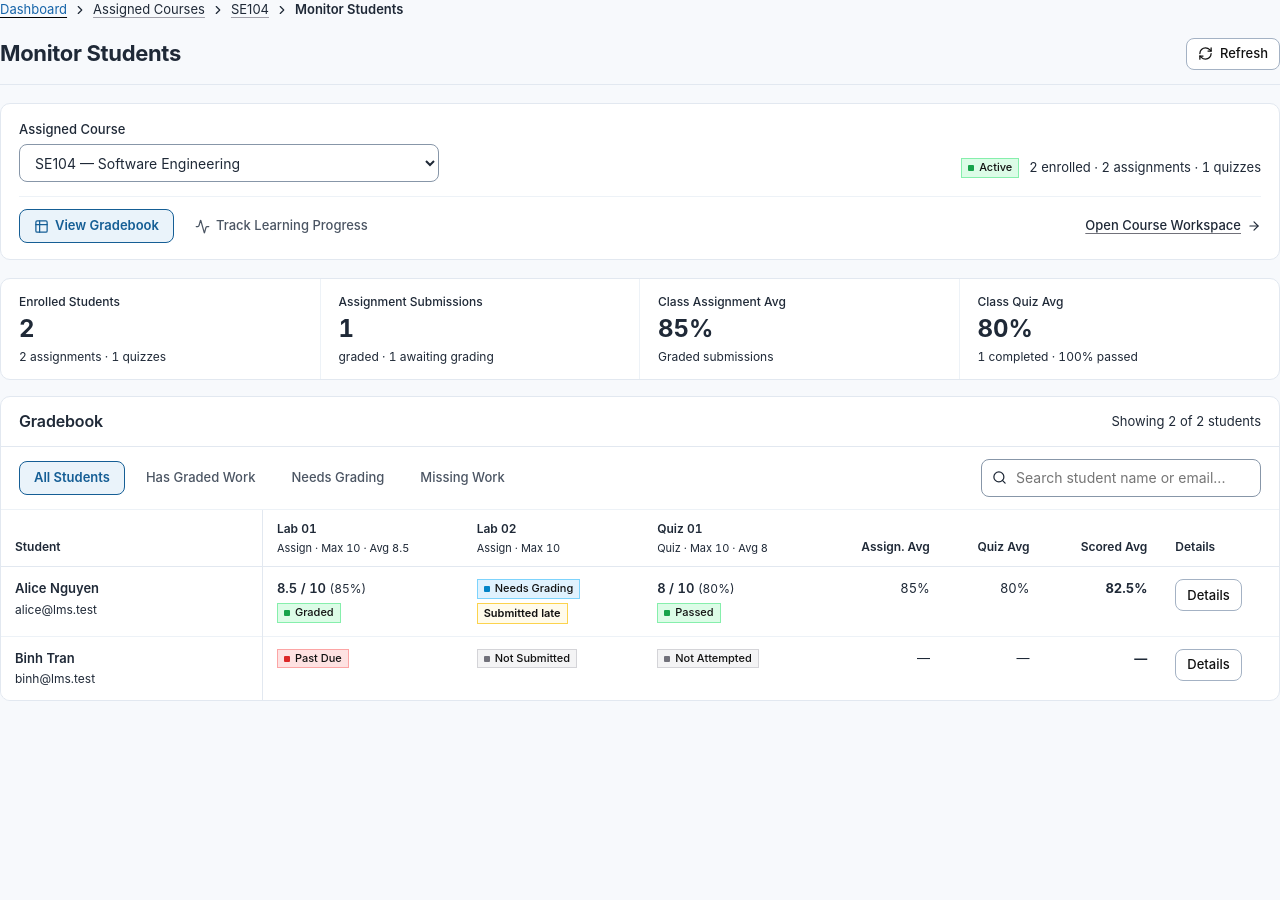
Scenario: I06: Instructor Monitor Students › 5.2 switches to Track Learning Progress, filters by status, and opens read-only detail modal
Expected: the table named "Course gradebook" is shown, [1,510,1279,700]
Click the tab "Track Learning Progress" at [281, 226], box [180,209,383,243]
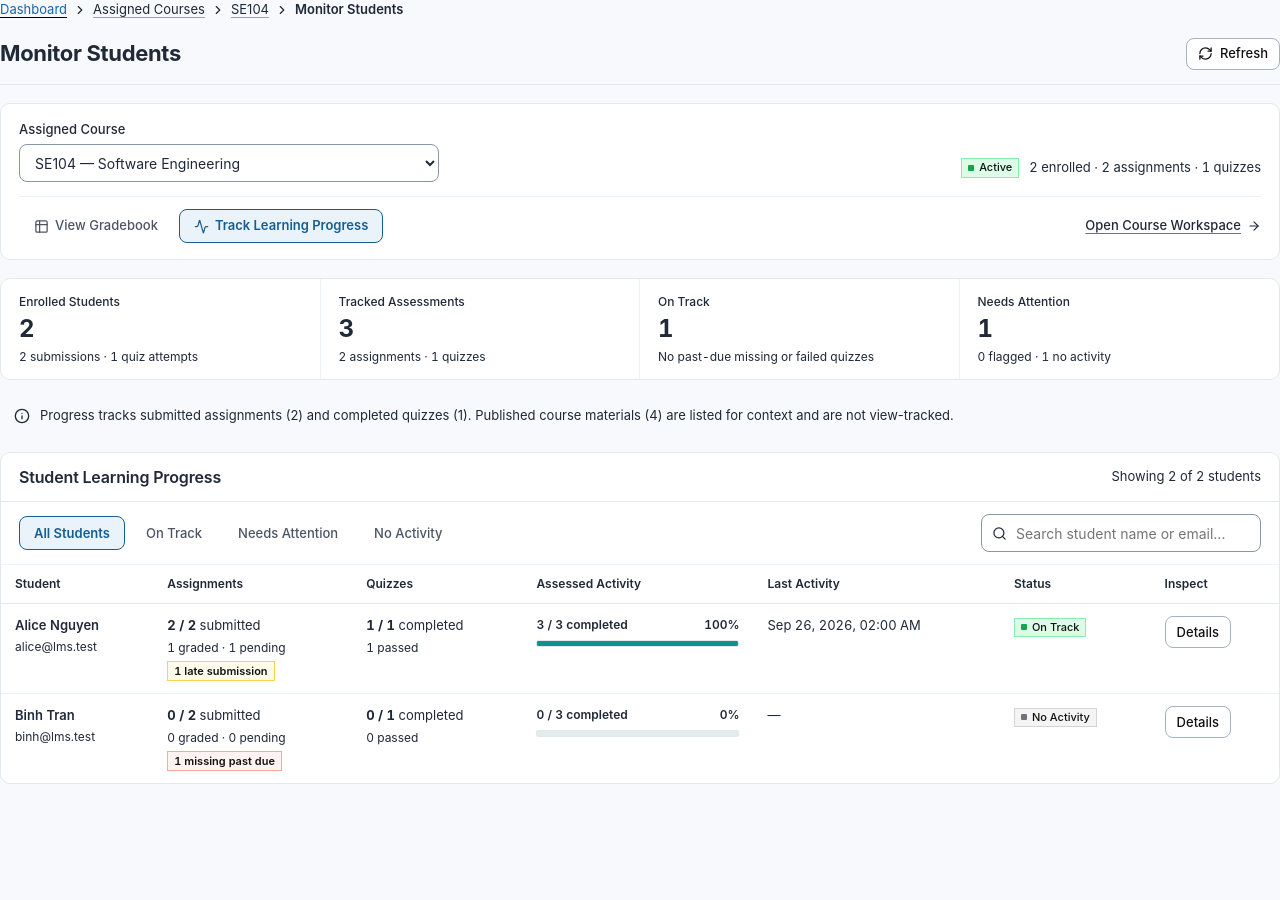
Result: the table named "Student learning progress" is shown at [1,566,1279,784]
Result: the text "Published course materials (4)" is shown at [40,406,954,426]
Result: the text "3 / 3 completed" is shown at [536,616,628,634]
Click the button "On Track" at [174, 534], box [131,516,217,550]
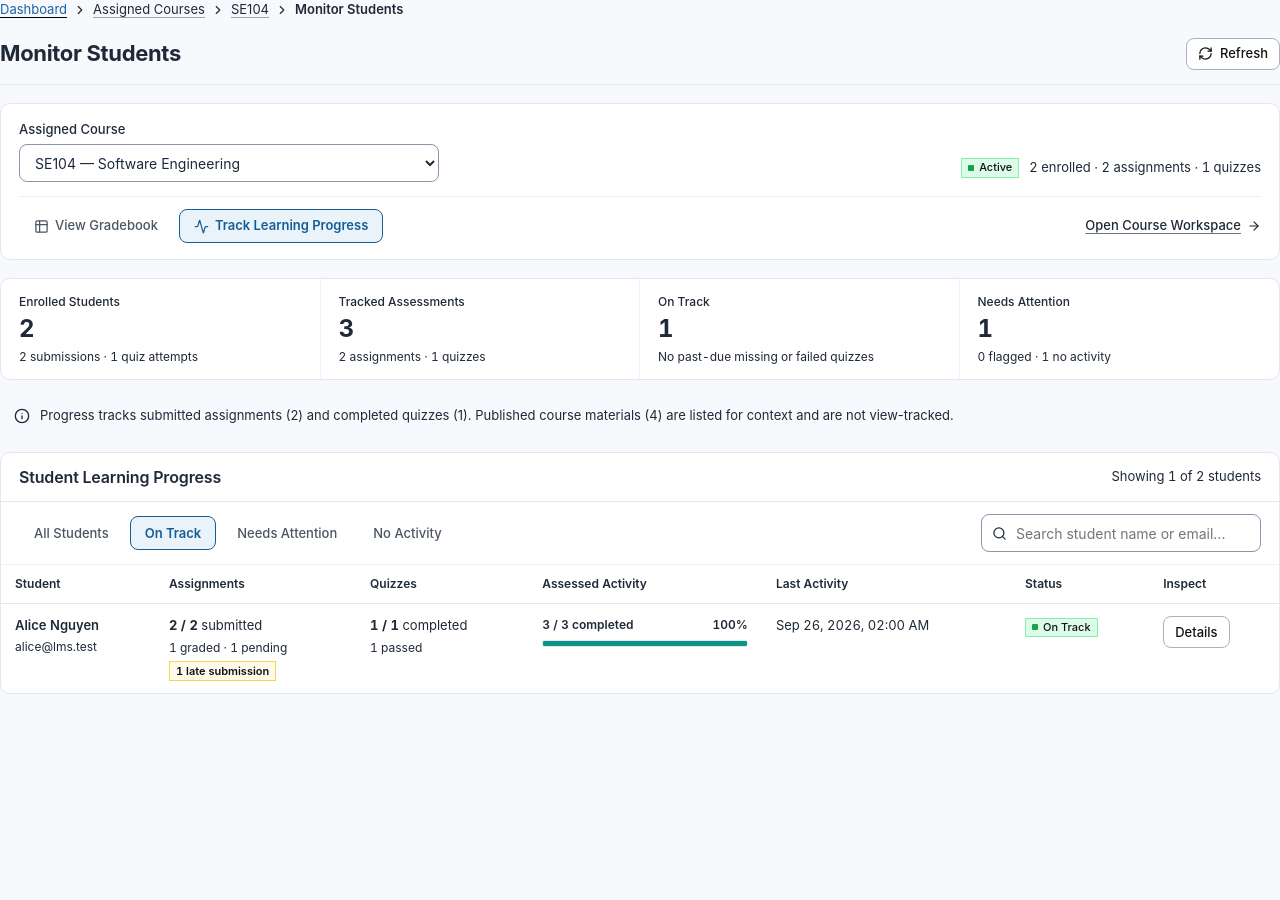
Expected: the text "Alice Nguyen" is shown, [15,618,99,634]
Result: the text "Binh Tran" is gone
Click the button with aria-label "Details for Alice Nguyen" at [1196, 632], box [1163,616,1230,648]
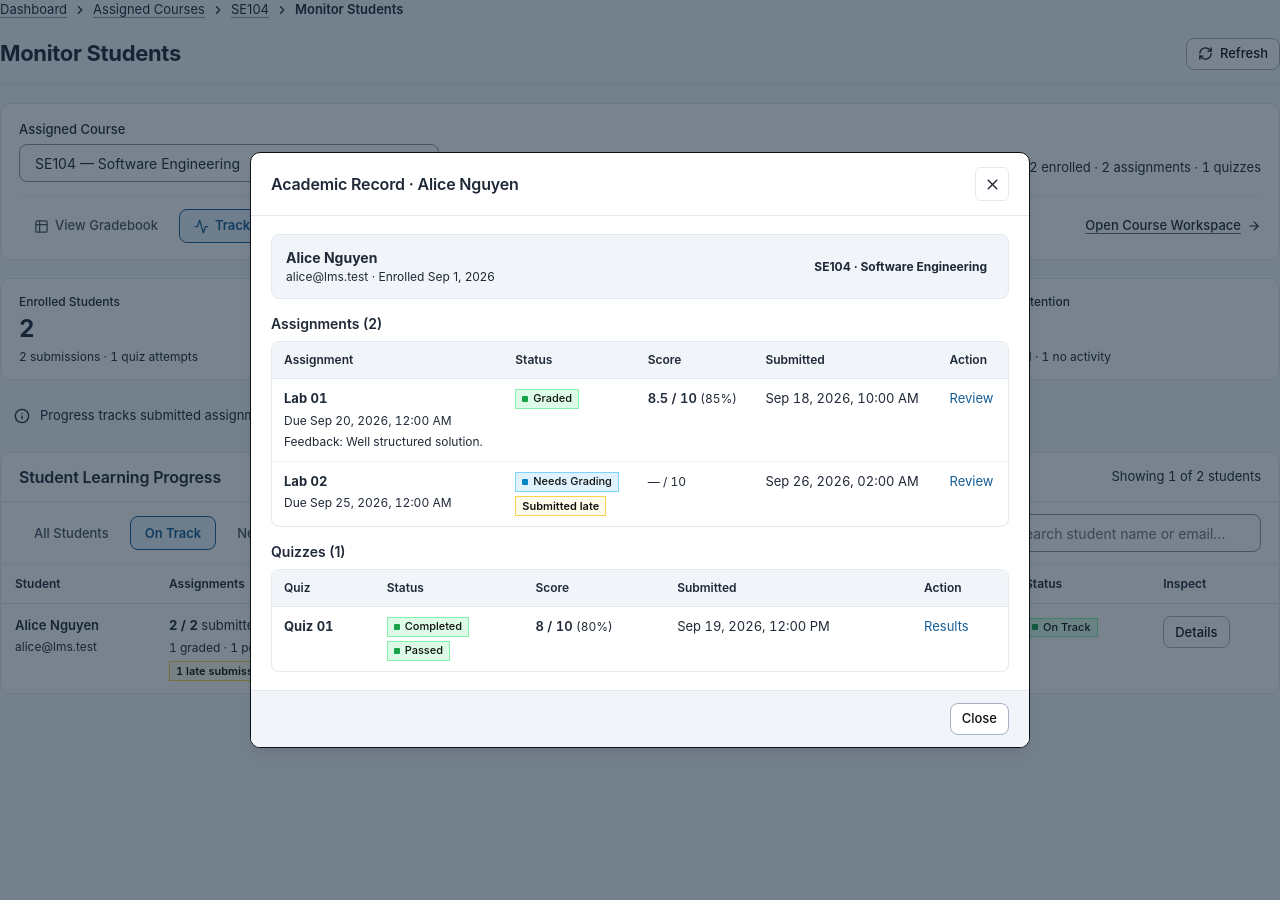
Result: the heading "Academic Record · Alice Nguyen" is shown at [271,174,519,195]
Result: the text "Feedback: Well structured solution." is shown at [284,433,491,451]
